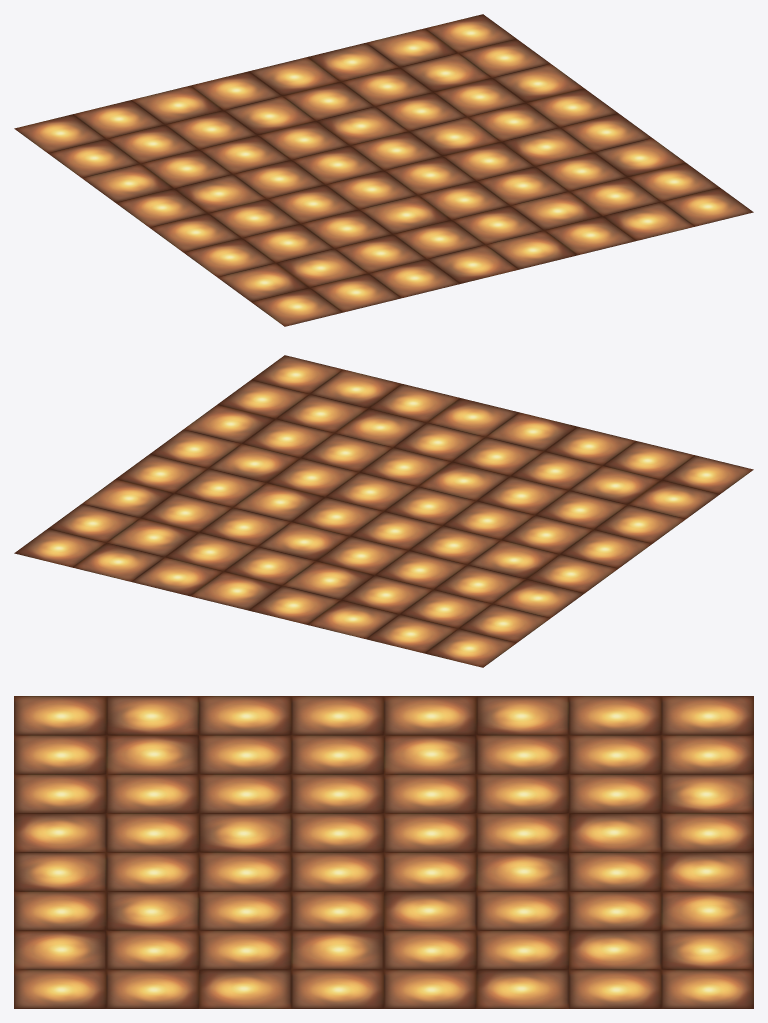
File: floor.glb
3 views of the same model, one above another, from view 1: azimuth 30°, elevation 25°; view 2: azimuth 150°, elevation 25°; view 3: azimuth 270°, elevation 25° (orthographic). The views are drawn at different scales.
Visible parts, largest first — view 1: fl05, fl20, fl21, fl25, fl52, fl56, fl57, fl72, fl02, fl03, fl04, fl23 (+52 smaller); view 2: fl02, fl22, fl26, fl27, fl50, fl51, fl55, fl75, fl03, fl04, fl05, fl20 (+52 smaller); view 3: fl00, fl02, fl04, fl06, fl10, fl12, fl14, fl16, fl20, fl22, fl24, fl26 (+52 smaller).
Boxes of the visible parts, <box> form: fl05: <box>183,238,275,277</box>; fl20: <box>132,85,223,124</box>; fl21: <box>165,110,257,149</box>; fl25: <box>301,209,392,248</box>; fl52: <box>375,92,466,131</box>; fl56: <box>510,191,602,230</box>; fl57: <box>544,216,635,255</box>; fl72: <box>492,63,584,102</box>; fl02: <box>82,164,173,202</box>; fl03: <box>116,188,207,227</box>; fl04: <box>150,213,241,252</box>; fl23: <box>233,160,324,198</box>; fl02: <box>492,579,584,618</box>; fl22: <box>375,550,466,589</box>; fl26: <box>510,451,602,490</box>; fl27: <box>544,426,635,465</box>; fl50: <box>132,557,223,596</box>; fl51: <box>165,532,257,571</box>; fl55: <box>301,433,392,472</box>; fl75: <box>183,404,275,443</box>; fl03: <box>526,554,617,593</box>; fl04: <box>560,529,651,568</box>; fl05: <box>594,505,685,543</box>; fl20: <box>307,600,399,638</box>; fl00: <box>661,696,753,735</box>; fl02: <box>476,696,568,735</box>; fl04: <box>291,696,383,735</box>; fl06: <box>106,696,198,735</box>; fl10: <box>661,735,753,774</box>; fl12: <box>476,735,568,774</box>; fl14: <box>291,735,383,774</box>; fl16: <box>106,735,198,774</box>; fl20: <box>661,774,753,813</box>; fl22: <box>476,774,568,813</box>; fl24: <box>291,774,383,813</box>; fl26: <box>106,774,198,813</box>.
Bounding box in the file's own units: 2 × 3.49e-07 × 2.
1 material, 1 textured.
